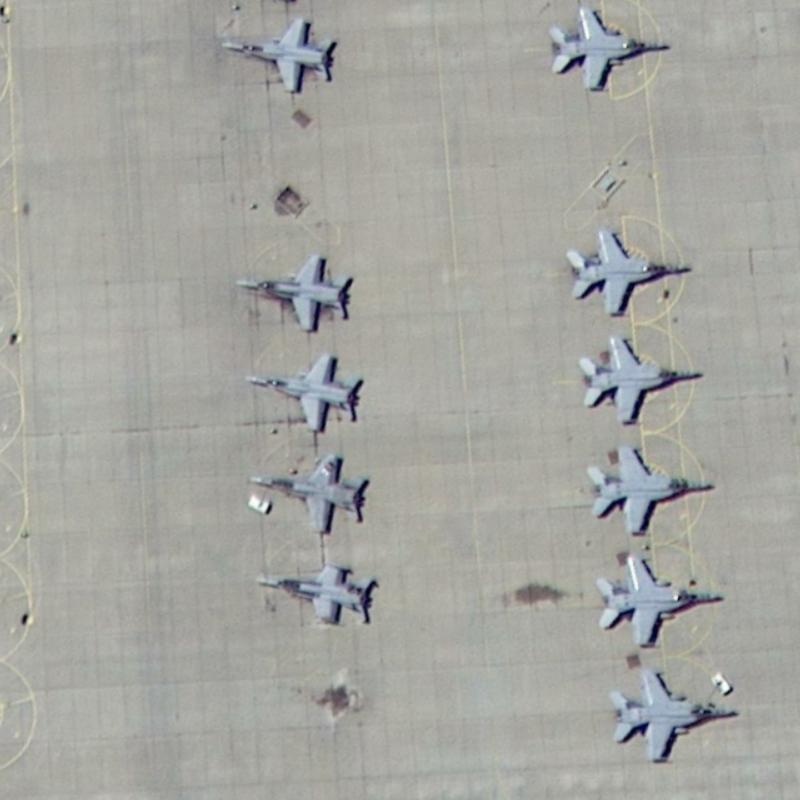A16: (604, 662, 742, 765), (559, 221, 697, 318), (591, 551, 727, 649), (583, 439, 718, 537), (575, 330, 706, 427), (240, 449, 376, 537), (236, 347, 370, 436), (213, 11, 342, 99), (545, 3, 671, 93), (229, 248, 356, 336), (239, 555, 386, 630)
